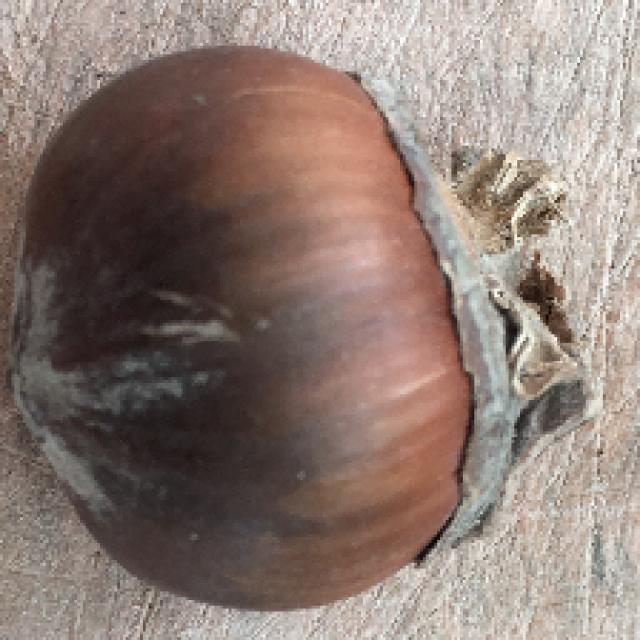DamagedHazelnut: (6, 47, 587, 608)
